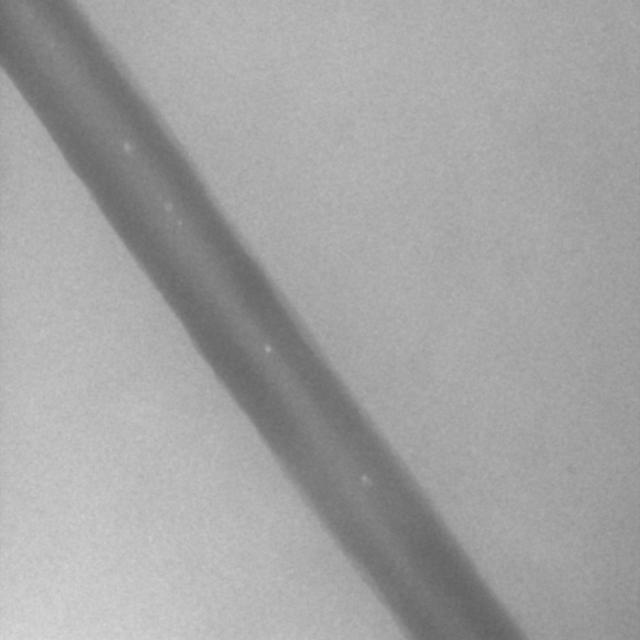air hole: (261, 343, 273, 355), (358, 471, 369, 483), (121, 141, 130, 153)
